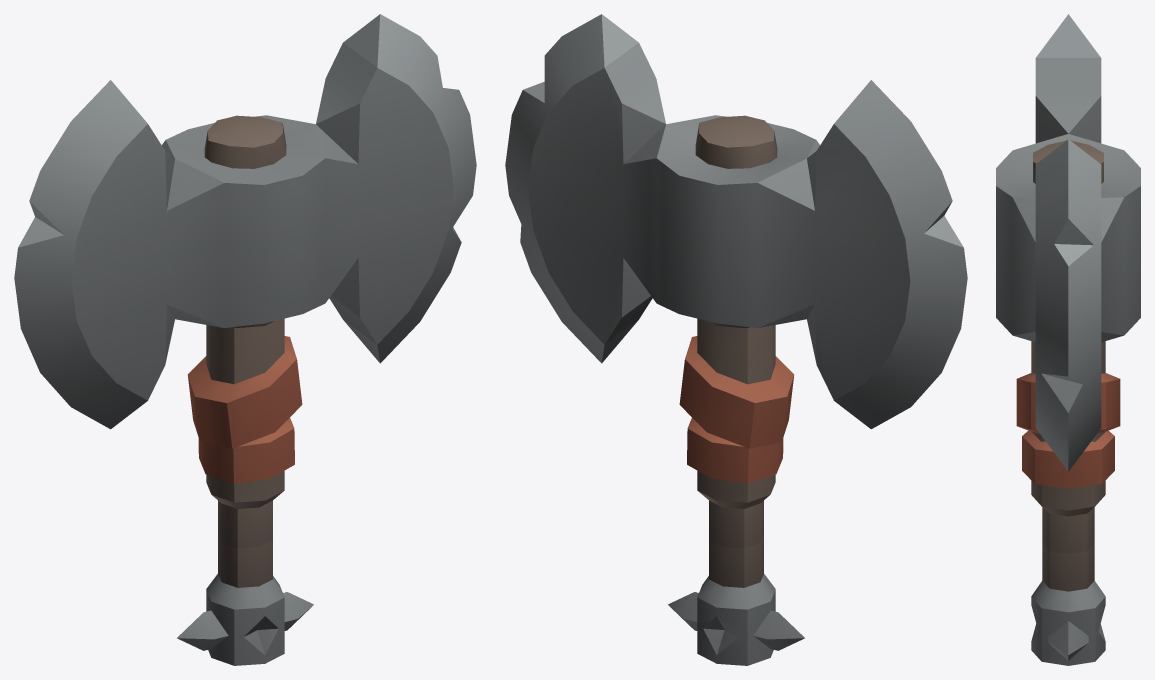
The model's file is Skeleton_Axe.gltf.
3 views of the same model, side by side, from view 1: azimuth 30°, elevation 25°; view 2: azimuth 150°, elevation 25°; view 3: azimuth 270°, elevation 25° (orthographic). The views are drawn at different scales.
Parts seen in each view (by area): view 1: Skeleton_Axe; view 2: Skeleton_Axe; view 3: Skeleton_Axe.
Part boxes in pixels (x1,y1,x2,y2): Skeleton_Axe: [14, 14, 476, 665]; Skeleton_Axe: [505, 14, 967, 665]; Skeleton_Axe: [996, 14, 1140, 665].
Bounding box in the file's own units: 0.9886 × 1.25 × 0.2819.
Materials: 1 (1 with a texture image).
